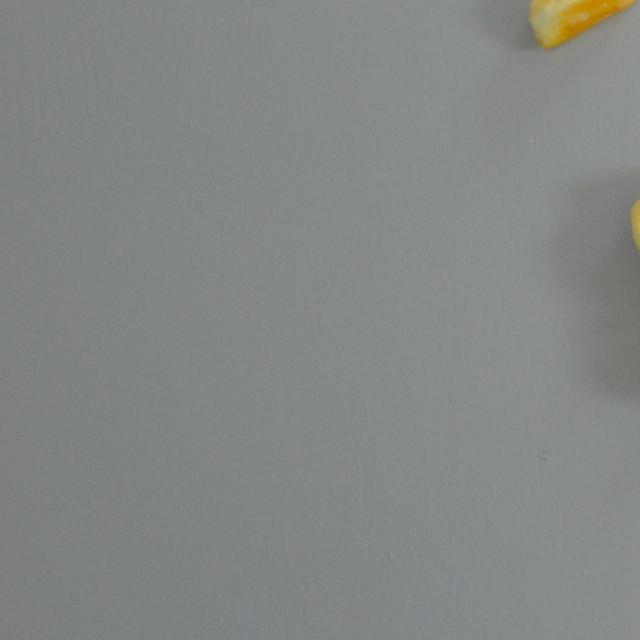punto_negro: (526, 0, 639, 50), (629, 197, 640, 321)
